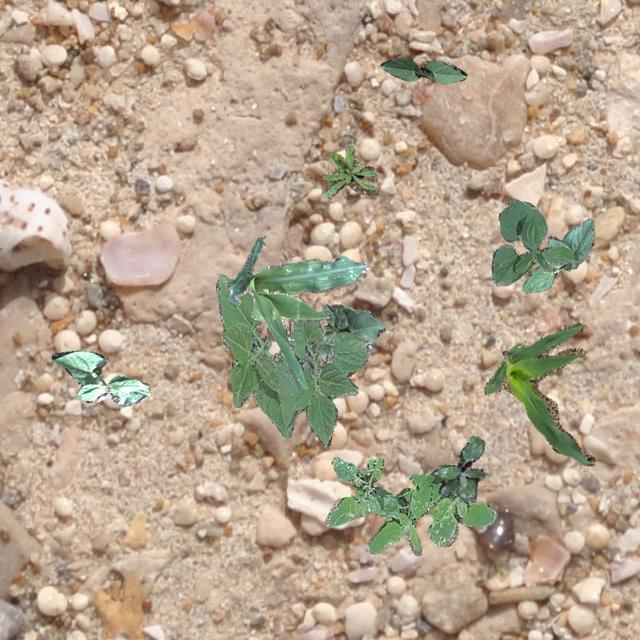crop: (214, 273, 370, 447), (225, 235, 368, 388), (482, 322, 594, 464), (491, 198, 574, 286), (50, 350, 150, 404), (522, 218, 594, 292), (317, 304, 383, 376), (380, 56, 466, 82)
weed: (324, 456, 494, 554), (428, 434, 486, 502), (322, 144, 378, 198)
